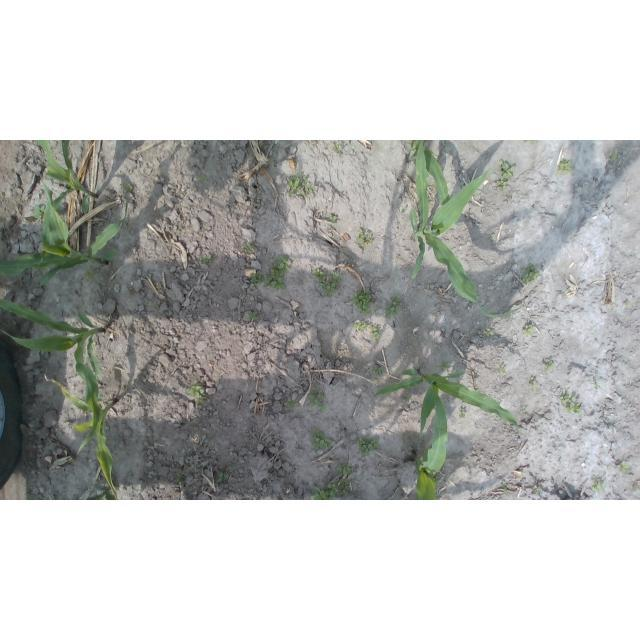Maize: (410, 140, 517, 318), (0, 182, 128, 287), (0, 297, 106, 411), (373, 369, 518, 428), (51, 380, 120, 500), (34, 141, 99, 214), (416, 394, 449, 500), (407, 140, 449, 206), (84, 484, 116, 501)
Weeds: (264, 254, 291, 291), (311, 268, 342, 297), (288, 176, 315, 197), (354, 288, 374, 316), (311, 426, 333, 450), (561, 388, 582, 413), (357, 436, 379, 456), (327, 478, 350, 497), (189, 380, 207, 404), (307, 387, 325, 411), (385, 293, 402, 317), (522, 264, 540, 285), (498, 160, 516, 180), (356, 228, 373, 249), (313, 485, 332, 500), (557, 160, 573, 175), (336, 461, 352, 475), (592, 478, 605, 493), (353, 320, 368, 332), (250, 270, 264, 282), (32, 205, 44, 218), (84, 268, 96, 281), (371, 326, 382, 340), (616, 462, 630, 473), (608, 148, 619, 162), (216, 472, 228, 484), (521, 324, 533, 336), (497, 180, 508, 191), (545, 360, 555, 372), (202, 254, 213, 264), (244, 243, 255, 253), (285, 399, 296, 409), (123, 184, 133, 193), (332, 143, 341, 153), (248, 312, 258, 321), (372, 368, 383, 376), (440, 363, 451, 371), (485, 329, 494, 337), (176, 476, 184, 484), (488, 233, 496, 241), (623, 300, 631, 308), (327, 215, 337, 221), (141, 484, 148, 492), (595, 380, 602, 388), (522, 140, 536, 144), (176, 468, 185, 474), (252, 199, 261, 205), (459, 409, 465, 418), (201, 175, 208, 182), (502, 480, 506, 492), (532, 380, 537, 389), (633, 484, 640, 490), (404, 395, 410, 401), (501, 364, 505, 372), (534, 488, 539, 493), (523, 404, 526, 412)
